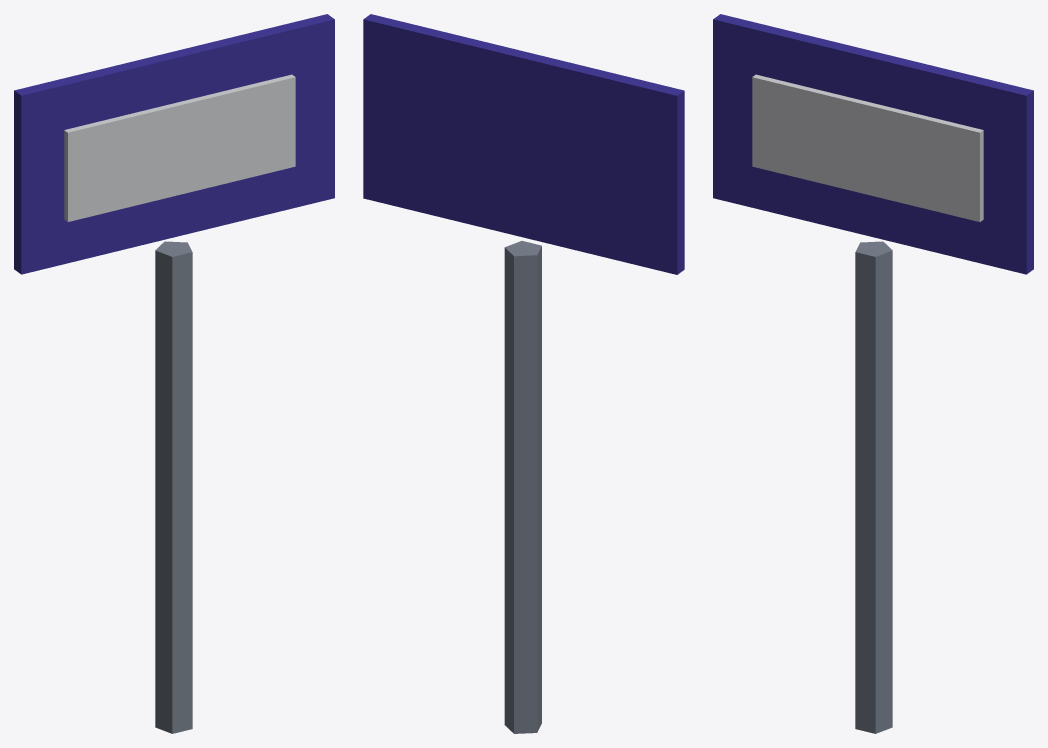
File: sign.glb
3 views of the same model, side by side, from view 1: azimuth 30°, elevation 25°; view 2: azimuth 150°, elevation 25°; view 3: azimuth 330°, elevation 25° (orthographic).
Parts seen in each view (by area): view 1: sign; view 2: sign; view 3: sign.
Boxes of the visible parts, x1,y1,x2,y2 form: sign: (14, 14, 334, 733); sign: (363, 14, 684, 733); sign: (713, 14, 1033, 733).
Size of the model in its own units: 1.49 by 3.04 by 0.1465.
